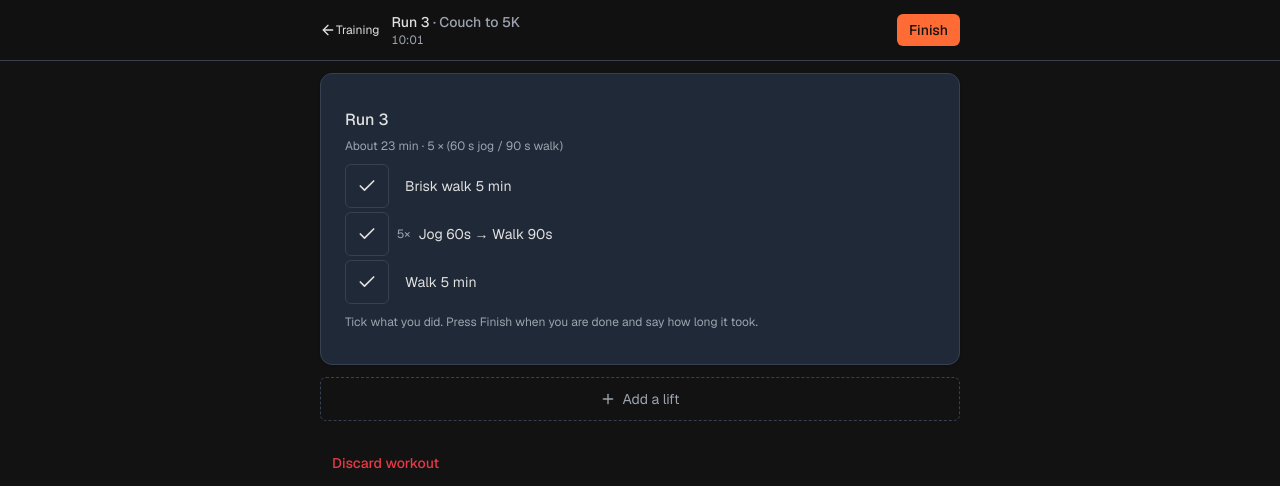
it: finishing a run › asks how far, in the unit the account reads distance in
The width and height of the screenshot is (1280, 486).
Click the button with test id "finish-workout" at (928, 30), box [897,14,960,46]
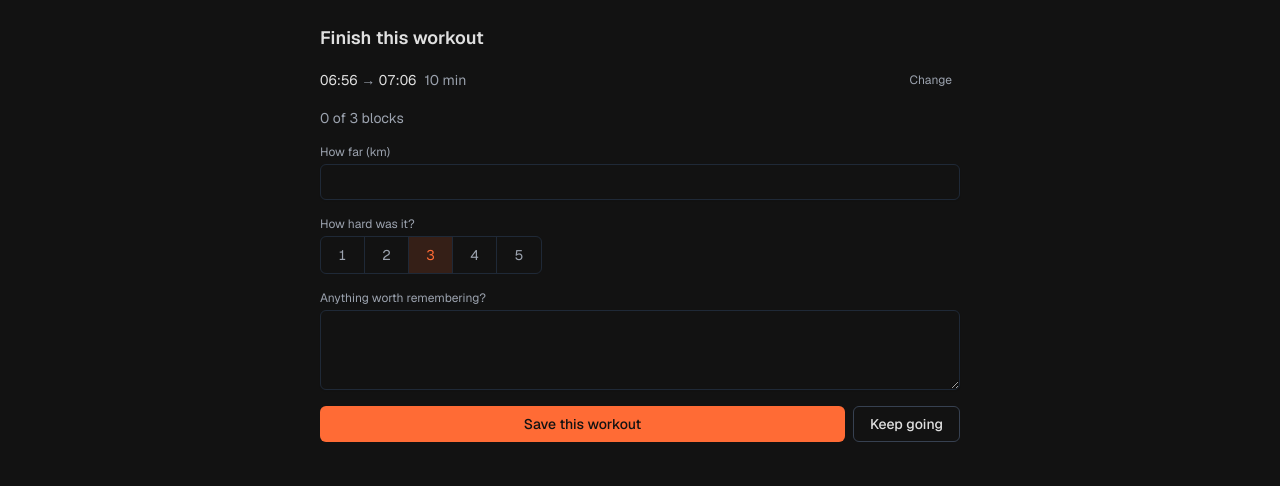
Now the number field named "how far, in km" is shown, box [320,164,960,200]
